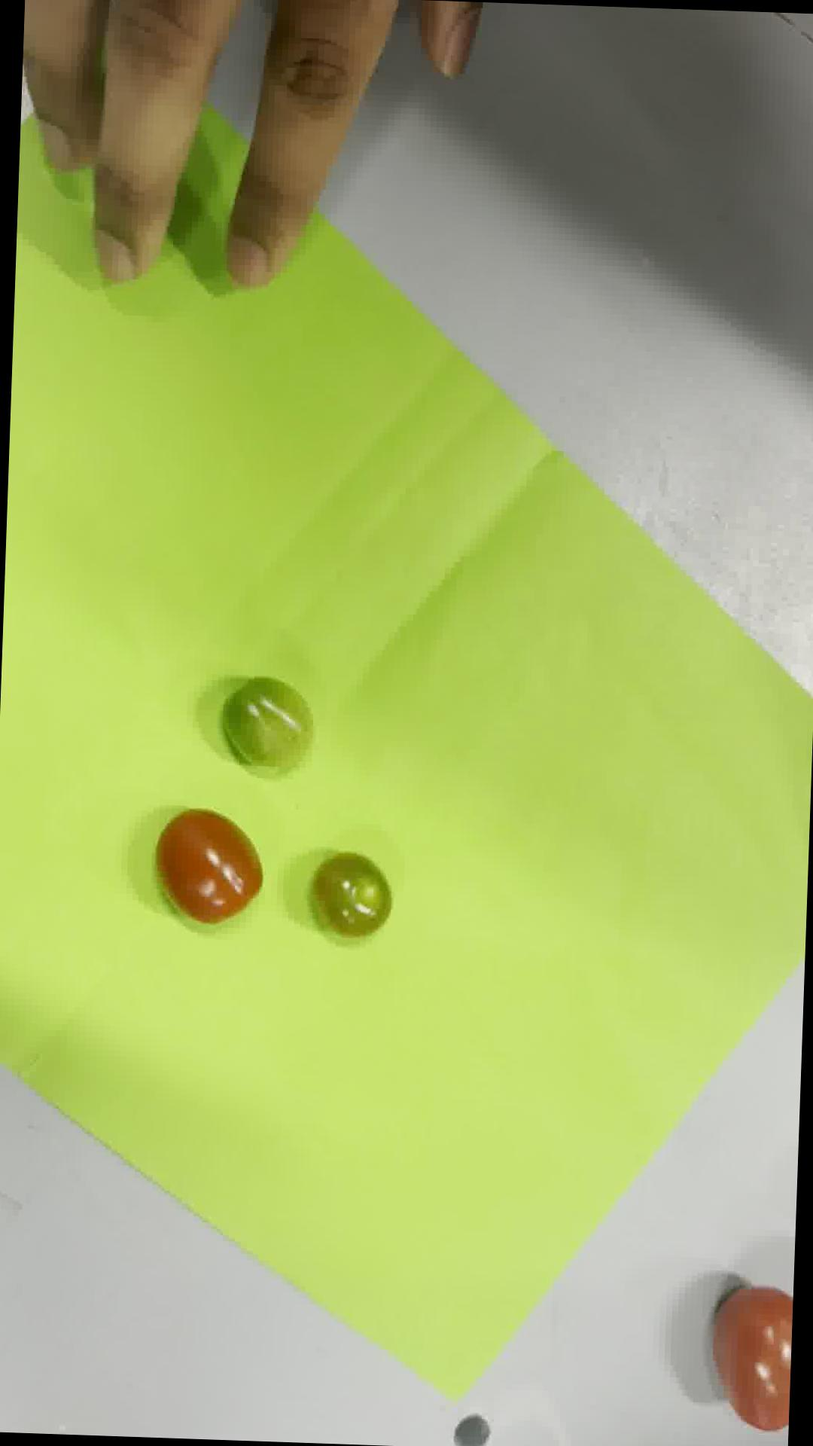green_cherry_tomato: (221, 677, 313, 774)
red_cherry_tomato: (157, 810, 262, 924)
yellow_cherry_tomato: (311, 852, 392, 940)
